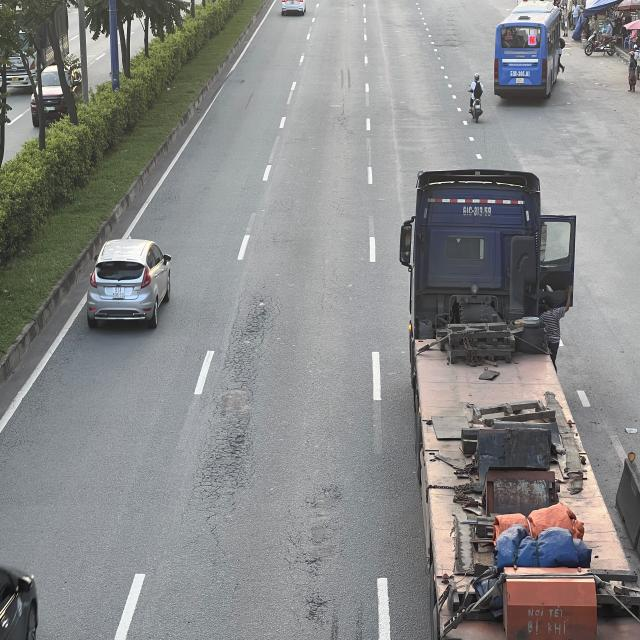car: (88, 238, 174, 329)
coach: (494, 0, 566, 99)
container: (399, 172, 634, 637)
